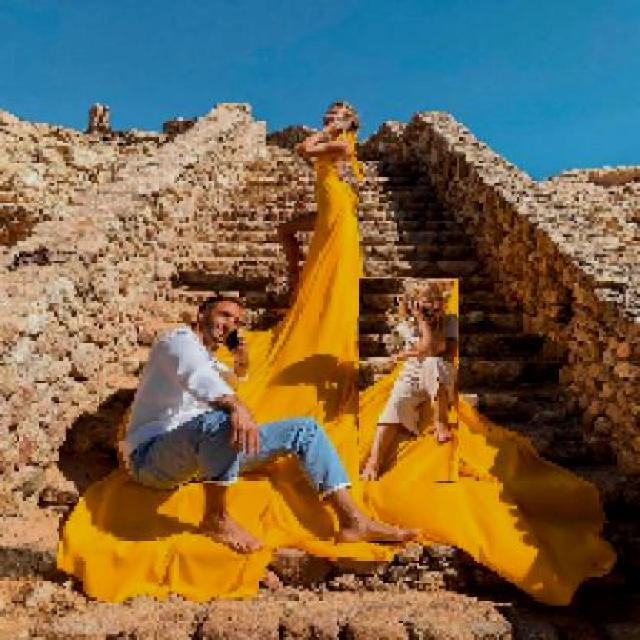child: (358, 278, 458, 482)
